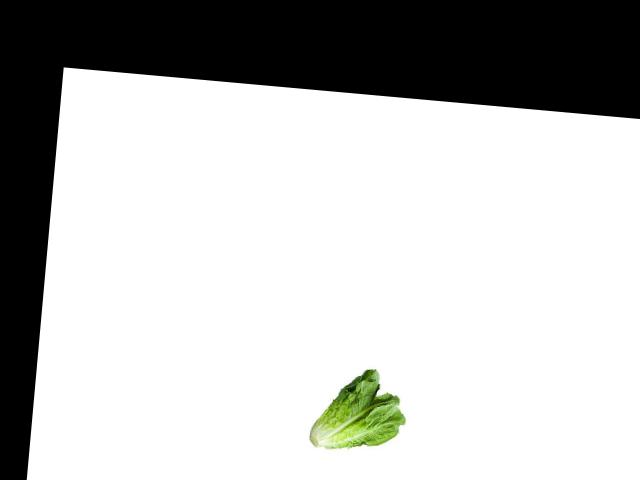lettuce: (302, 360, 409, 463)
